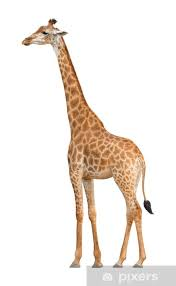Jirafa: (12, 13, 170, 262)
